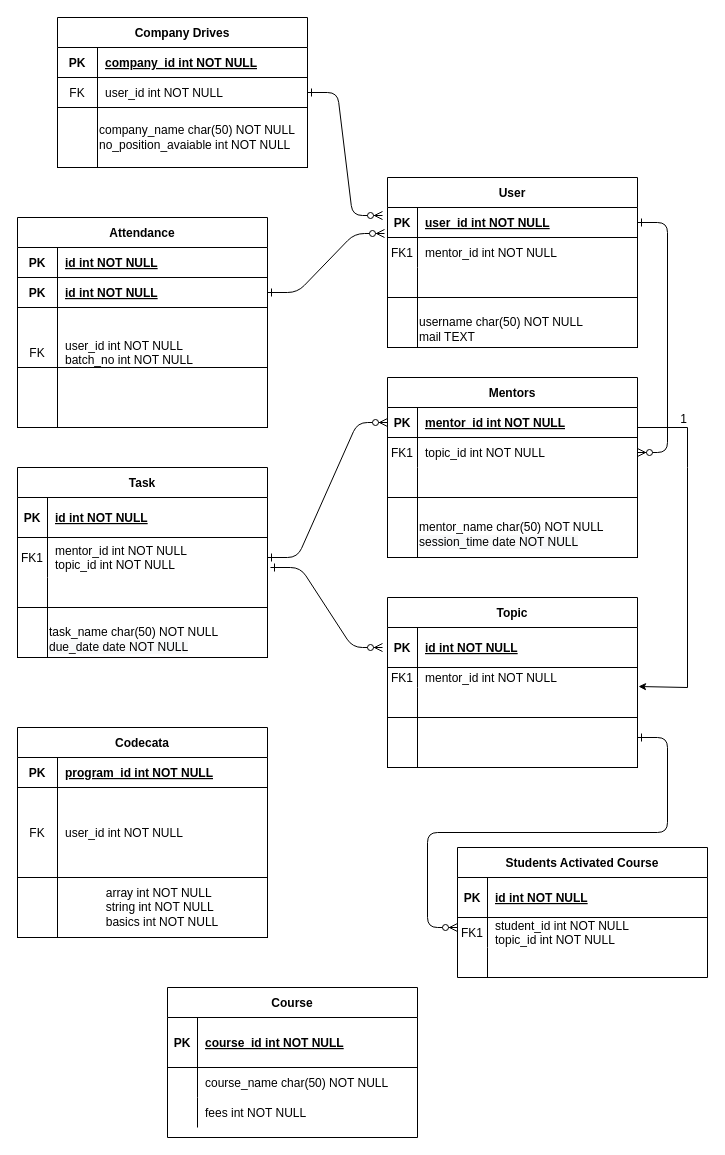
Image size: 725x1155. Some labels were removed from this diagram. The centre of each missing label's shape, as x and y in pixels:
topic_name char(50) NOT NULL: pixel 527 742
user_name char(50) NOT NULL date date NOT NULL attendance boolean: pixel 162 397
